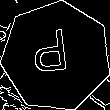P_S: (34, 29, 78, 84)
